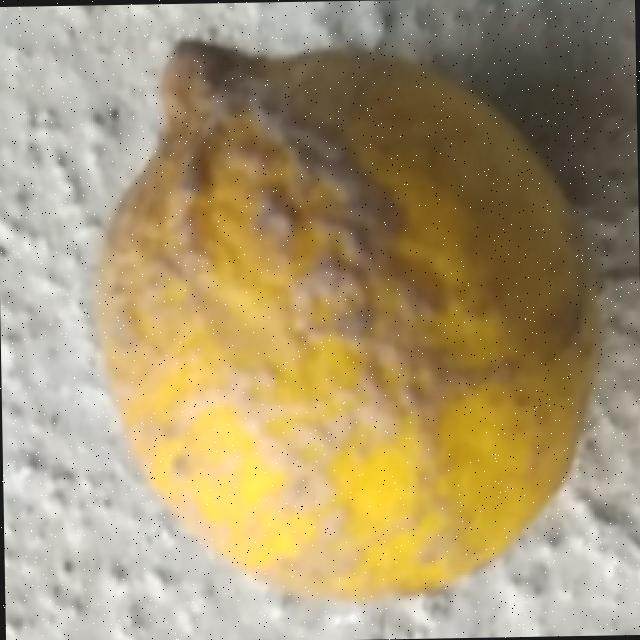overripe: (76, 29, 604, 614)
